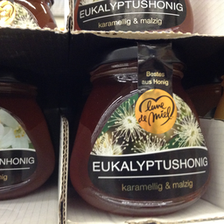honey: (68, 44, 216, 217)
